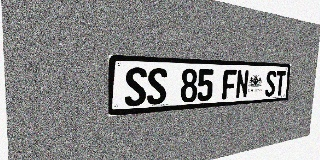5: (197, 69, 214, 102)
8: (180, 68, 198, 103)
F: (222, 69, 237, 100)
N: (235, 70, 249, 99)
S: (125, 67, 147, 107), (147, 68, 167, 105), (265, 70, 277, 97)
T: (275, 71, 286, 96)
